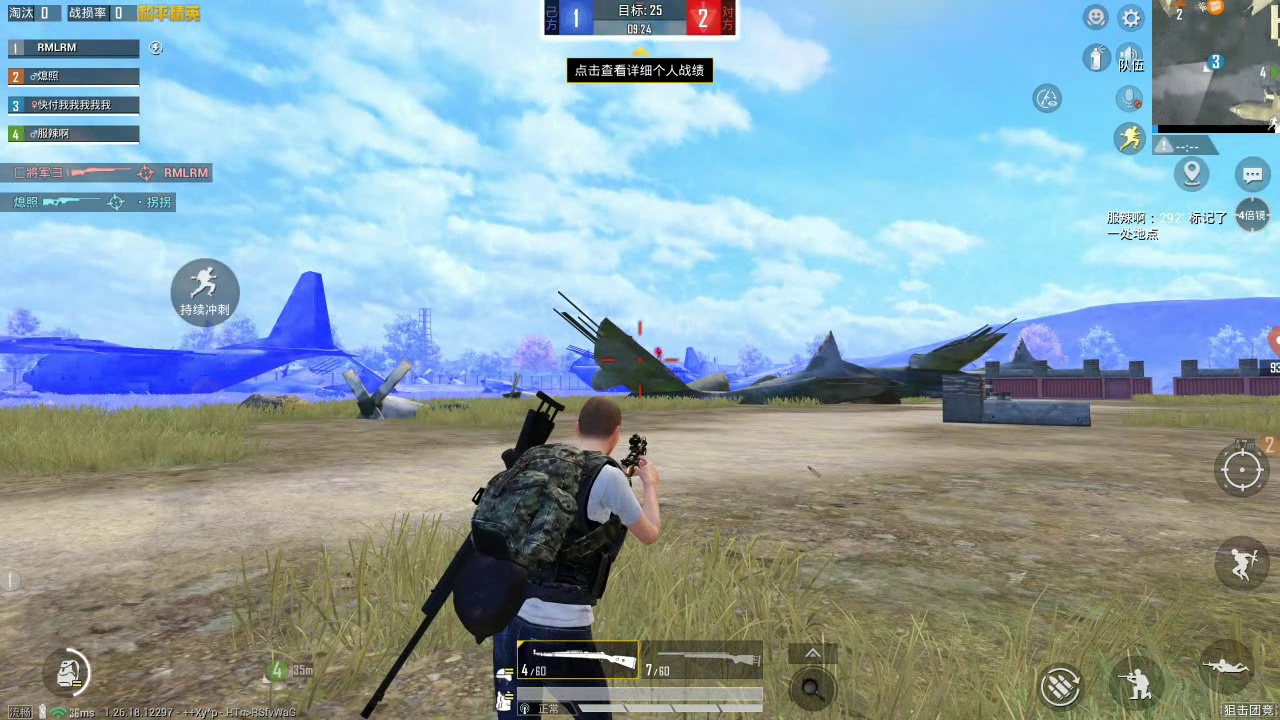enemy: (654, 346, 663, 363)
